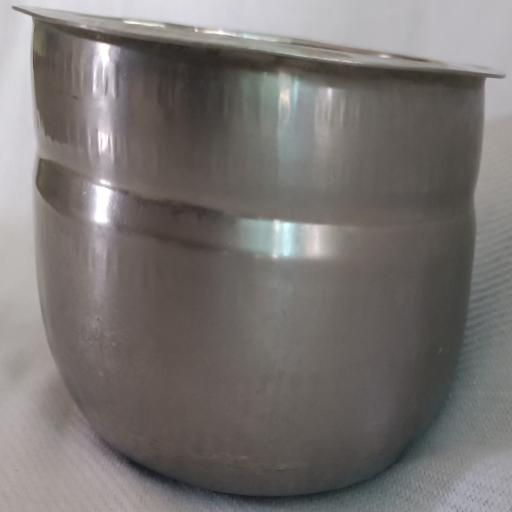vessel: (19, 9, 501, 495)
